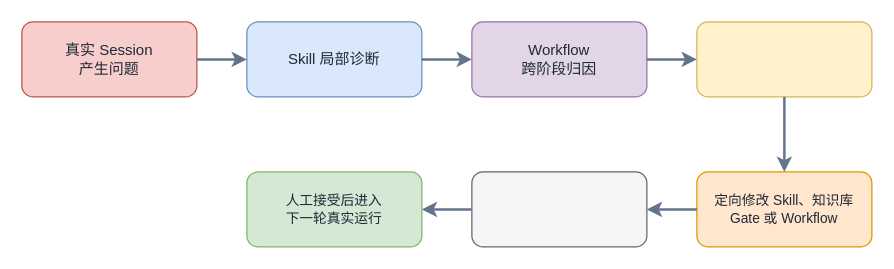
Image size: 894x269. Some labels were removed from this diagram. Each missing label, with the centre of its shape:
Golden / Hard Set 离线评测: the point at 559,209
专家确认 真实根因: the point at 784,59
